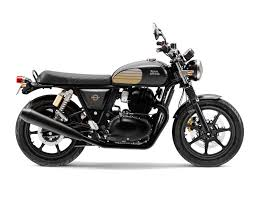motorcycle: (13, 23, 245, 169)
